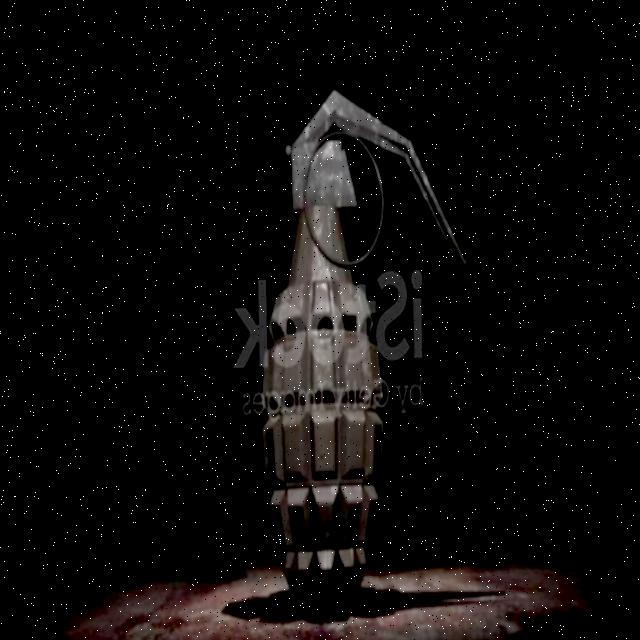grenade: (232, 66, 513, 611)
